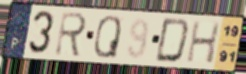3: (26, 9, 57, 57)
9: (126, 16, 153, 61)
D: (153, 16, 191, 65)
H: (184, 19, 222, 65)
Q: (93, 14, 123, 60)
R: (53, 11, 89, 59)
